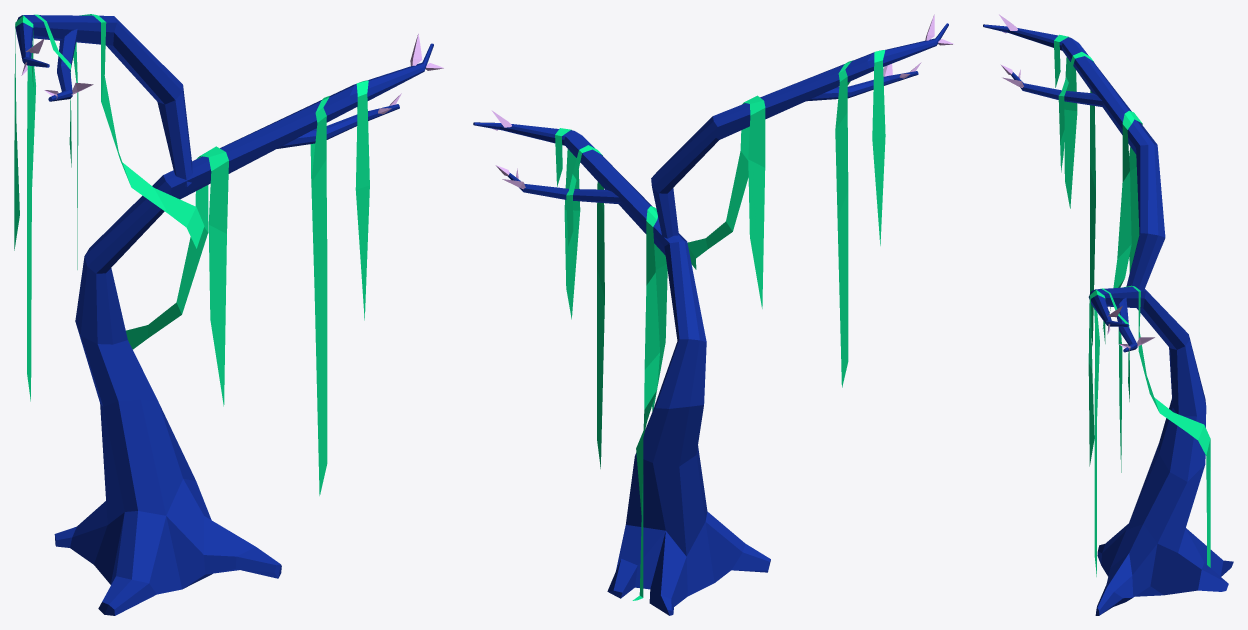
File: 093_SwingTree.fbx
The picture shows the model from 3 angles, left to right: view 1: azimuth 30°, elevation 25°; view 2: azimuth 150°, elevation 25°; view 3: azimuth 270°, elevation 25°; orthographic projection. The views are drawn at different scales.
Visible parts, largest first — view 1: SwingTree; view 2: SwingTree; view 3: SwingTree.
Boxes of the visible parts, x1,y1,x2,y2 form: SwingTree: (14, 14, 443, 615); SwingTree: (473, 14, 953, 615); SwingTree: (983, 14, 1233, 615).
Bounding box in the file's own units: 79.65 × 101 × 46.42.
